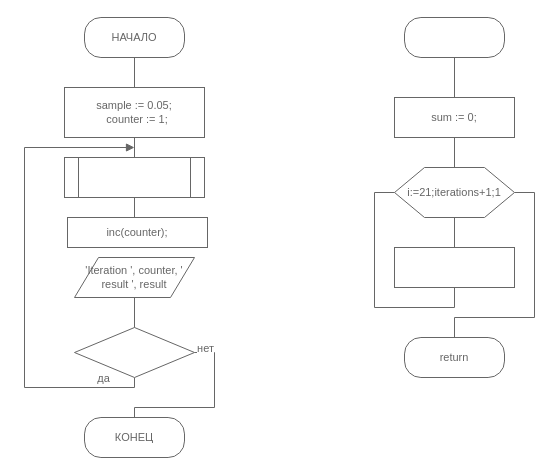
Some shapes in this 553 by 475 pixel diagram are drawn without their labels. The shapes that lost their labels are listed below. From the top down, each one's centre as x and y in pixels, then its label:
pixel 454 37: getFac
pixel 134 177: result := getFac(iterations: integer)
pixel 454 267: sum := sum + 1 / (i*(i+1)*(i+2)*(i+3));
pixel 134 352: result > sample
